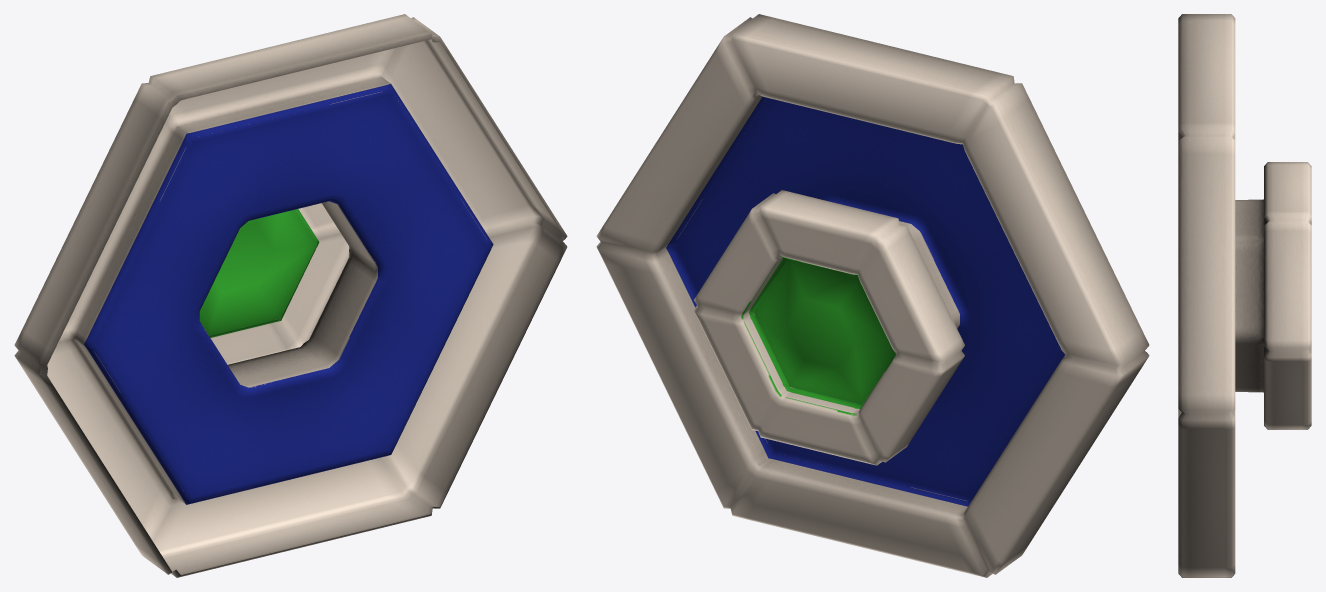
The model's file is FONTE.fbx.
3 views of the same model, side by side, from view 1: azimuth 30°, elevation 25°; view 2: azimuth 150°, elevation 25°; view 3: azimuth 270°, elevation 25° (orthographic). The views are drawn at different scales.
Visible parts, largest first — view 1: Fountain; view 2: Fountain; view 3: Fountain.
Boxes of the visible parts, bbox=[...] form: Fountain: bbox=[14, 14, 567, 577]; Fountain: bbox=[596, 14, 1149, 577]; Fountain: bbox=[1178, 14, 1311, 577].
Size of the model in its own units: 594 by 520 by 140.
